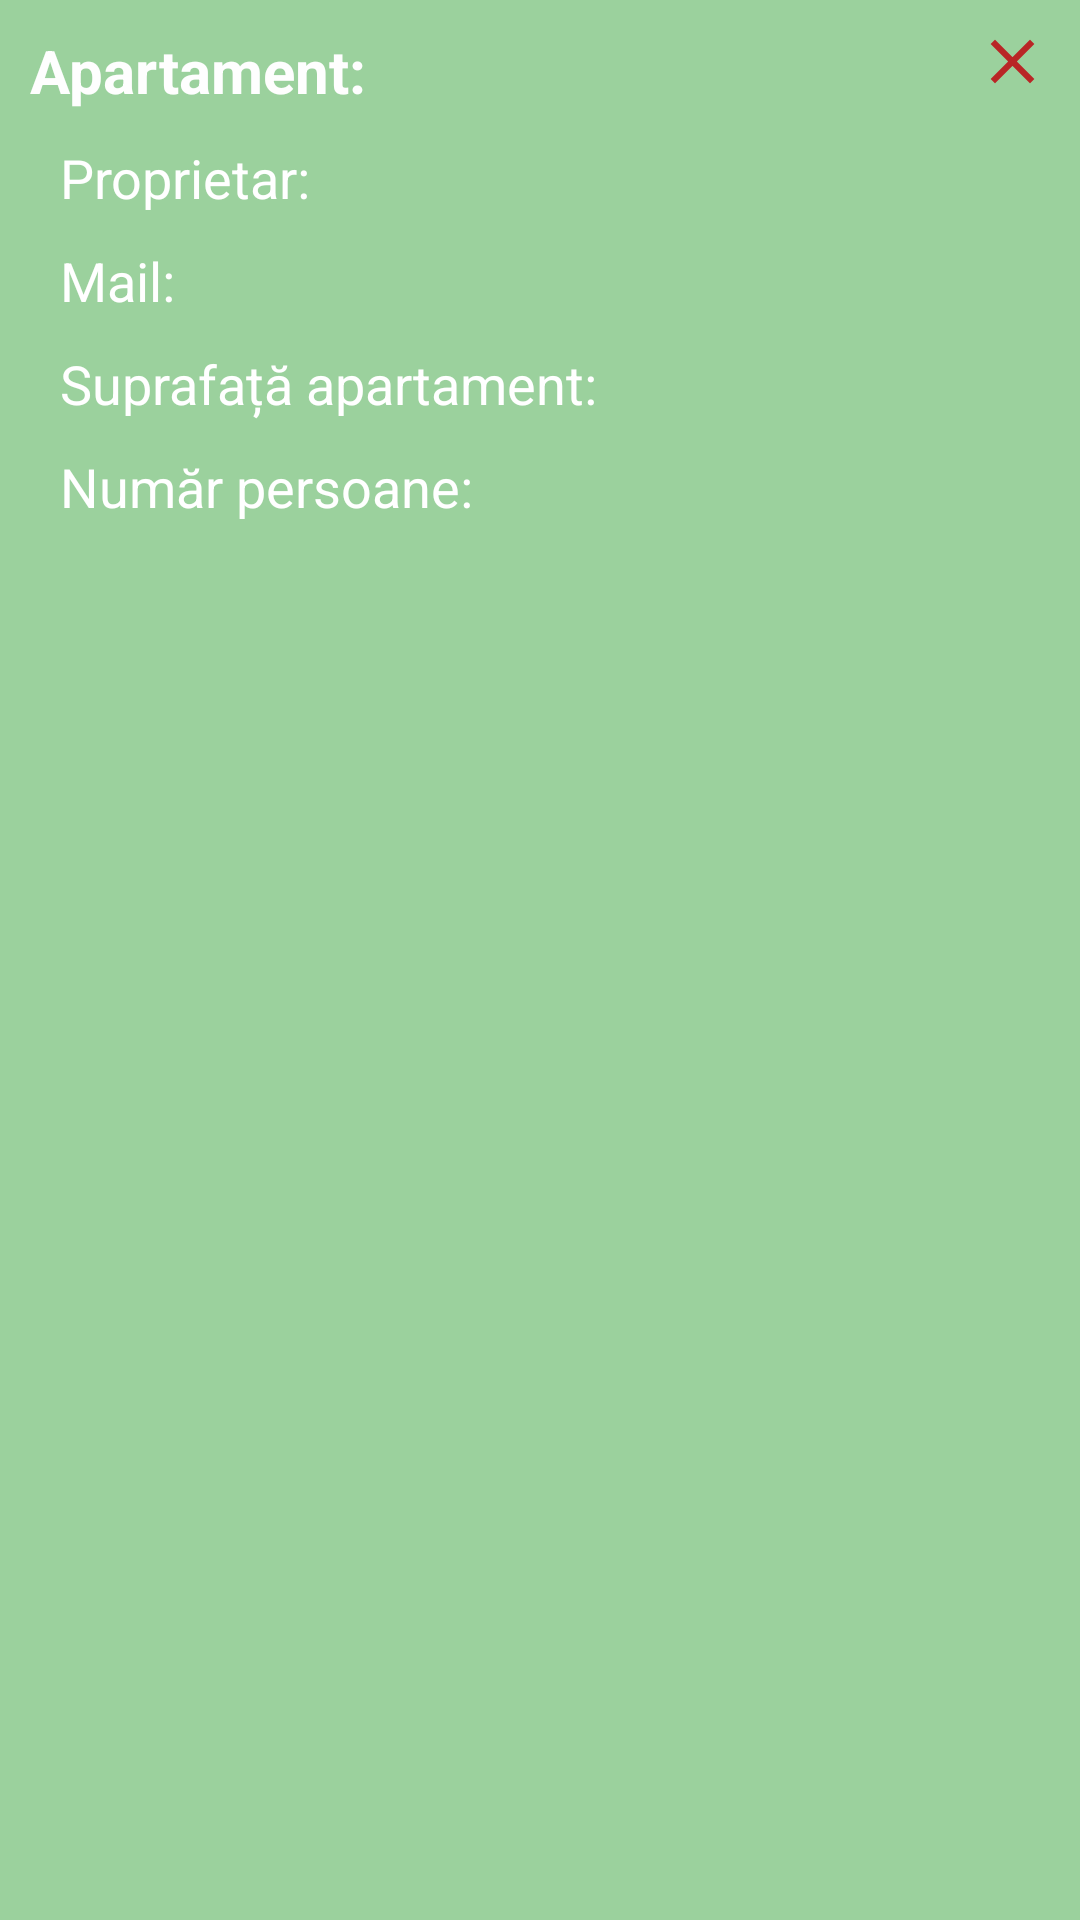

Named icons in this screenshot (1080×1920) and their centers, point (x, y):
close: point (1012, 61)
